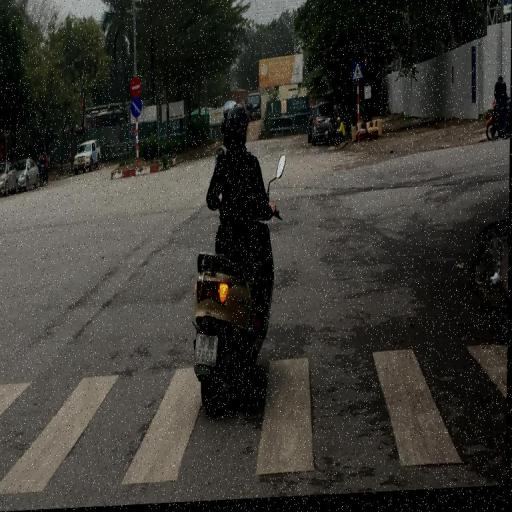bike: (190, 103, 280, 418)
numberplate: (195, 334, 220, 371)
with helmet: (225, 105, 252, 137)
